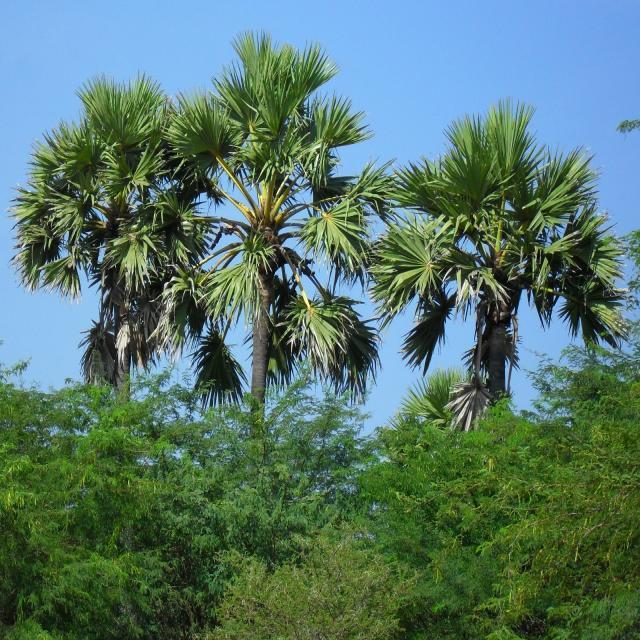Plam-Tree: (48, 62, 383, 510), (203, 73, 362, 423), (409, 124, 617, 384)
